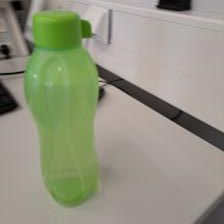bottle: (23, 6, 102, 208)
